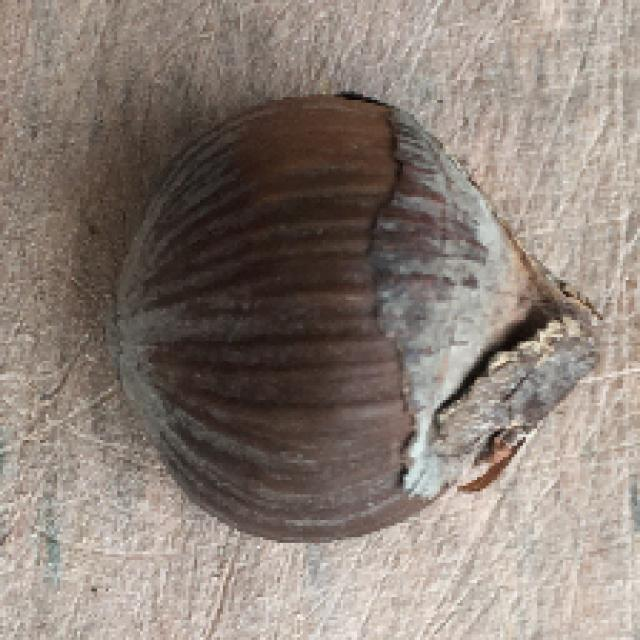damagedHazelnut: (113, 78, 611, 548)
